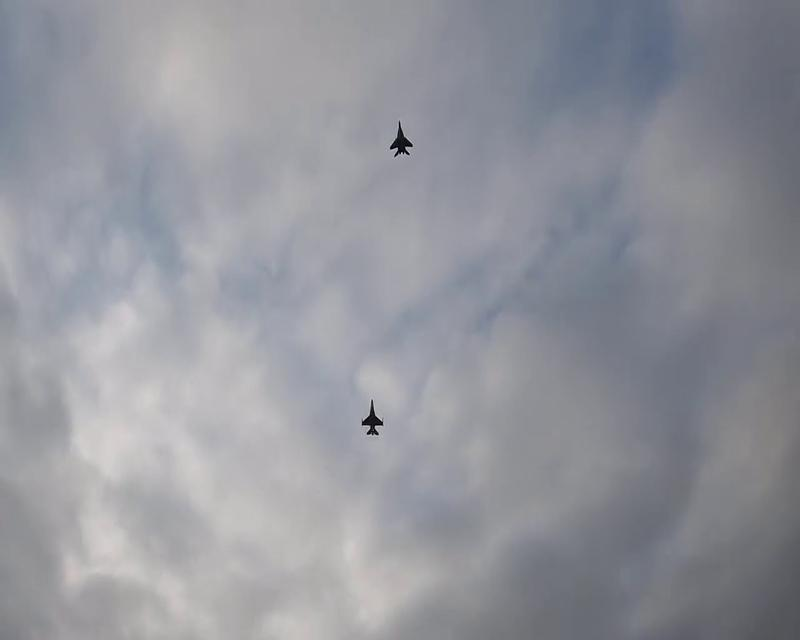UAV: (388, 118, 414, 159), (360, 398, 384, 437)
